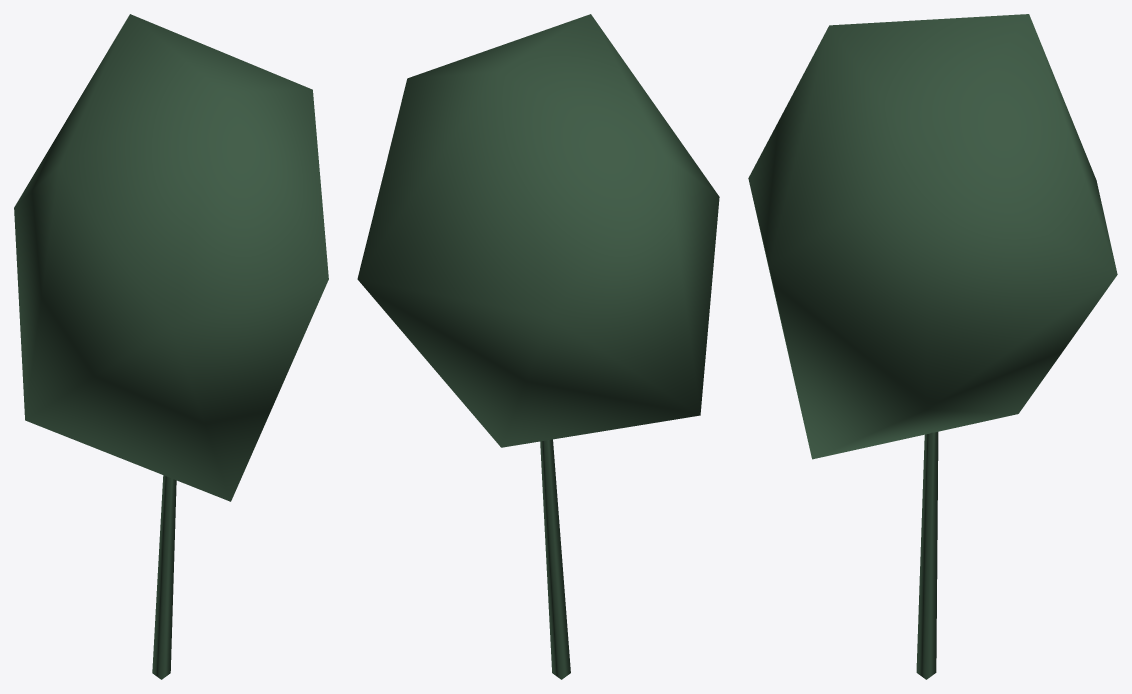
The model's file is birch_LOD1.glb.
3 renders of one model, left to right at view 1: azimuth 30°, elevation 25°; view 2: azimuth 150°, elevation 25°; view 3: azimuth 270°, elevation 25°, orthographic. The views are drawn at different scales.
Visible parts, largest first — view 1: Birch; view 2: Birch; view 3: Birch.
Part boxes in pixels (box(x1,y1,x2,y2)): Birch: box(14, 14, 328, 679); Birch: box(357, 14, 719, 679); Birch: box(748, 14, 1117, 679).
Size of the model in its own units: 5.29 by 10.95 by 5.47.
